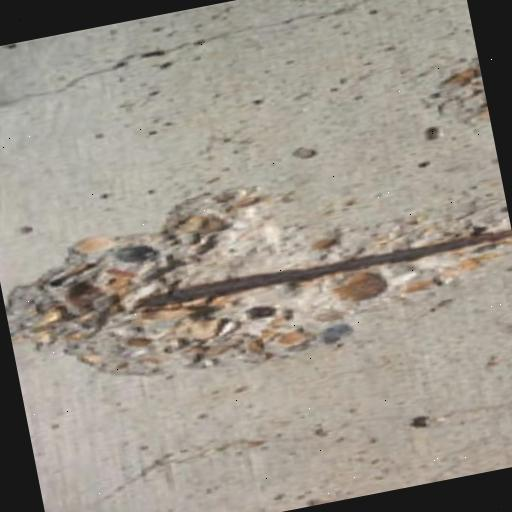spalling: (0, 133, 512, 407)
